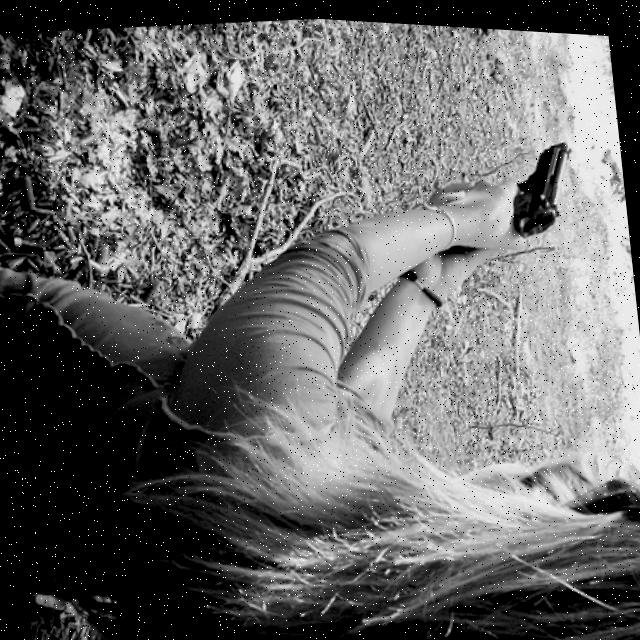pistol: (504, 129, 580, 235)
